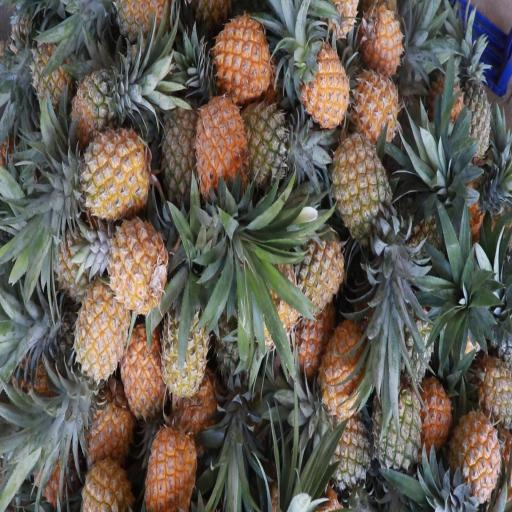------------------------------: (326, 123, 391, 253), (62, 58, 138, 151), (160, 284, 210, 400), (233, 88, 293, 184)
Pineapple - v8 v1: (64, 121, 158, 236), (186, 85, 250, 215), (106, 212, 169, 324), (69, 276, 131, 388), (318, 315, 376, 432), (291, 41, 356, 139), (140, 405, 197, 512), (286, 219, 346, 317), (452, 396, 502, 512), (213, 12, 272, 108), (345, 56, 402, 152), (116, 319, 167, 419), (361, 3, 413, 77), (74, 448, 132, 512)
